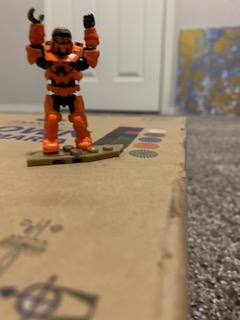spartan: (20, 3, 102, 156)
up: (22, 5, 103, 84)
